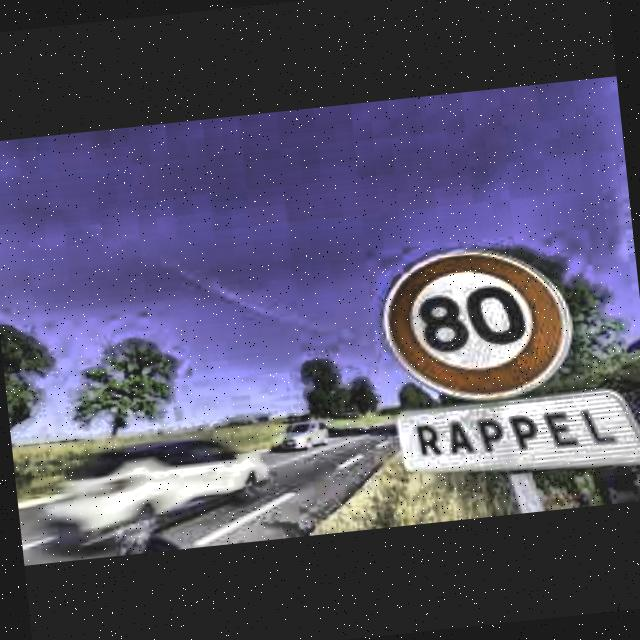speed_80: (377, 239, 578, 410)
